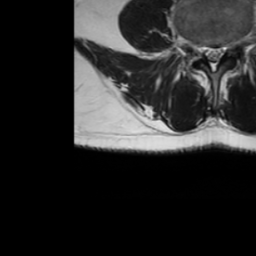CCS_normal: (208, 37, 217, 79)
LFS_stenosis: (226, 33, 236, 61)
LLS_stenosis: (217, 37, 226, 65)
RFS_normal: (190, 33, 199, 70)
RLS_stenosis: (199, 37, 208, 66)
